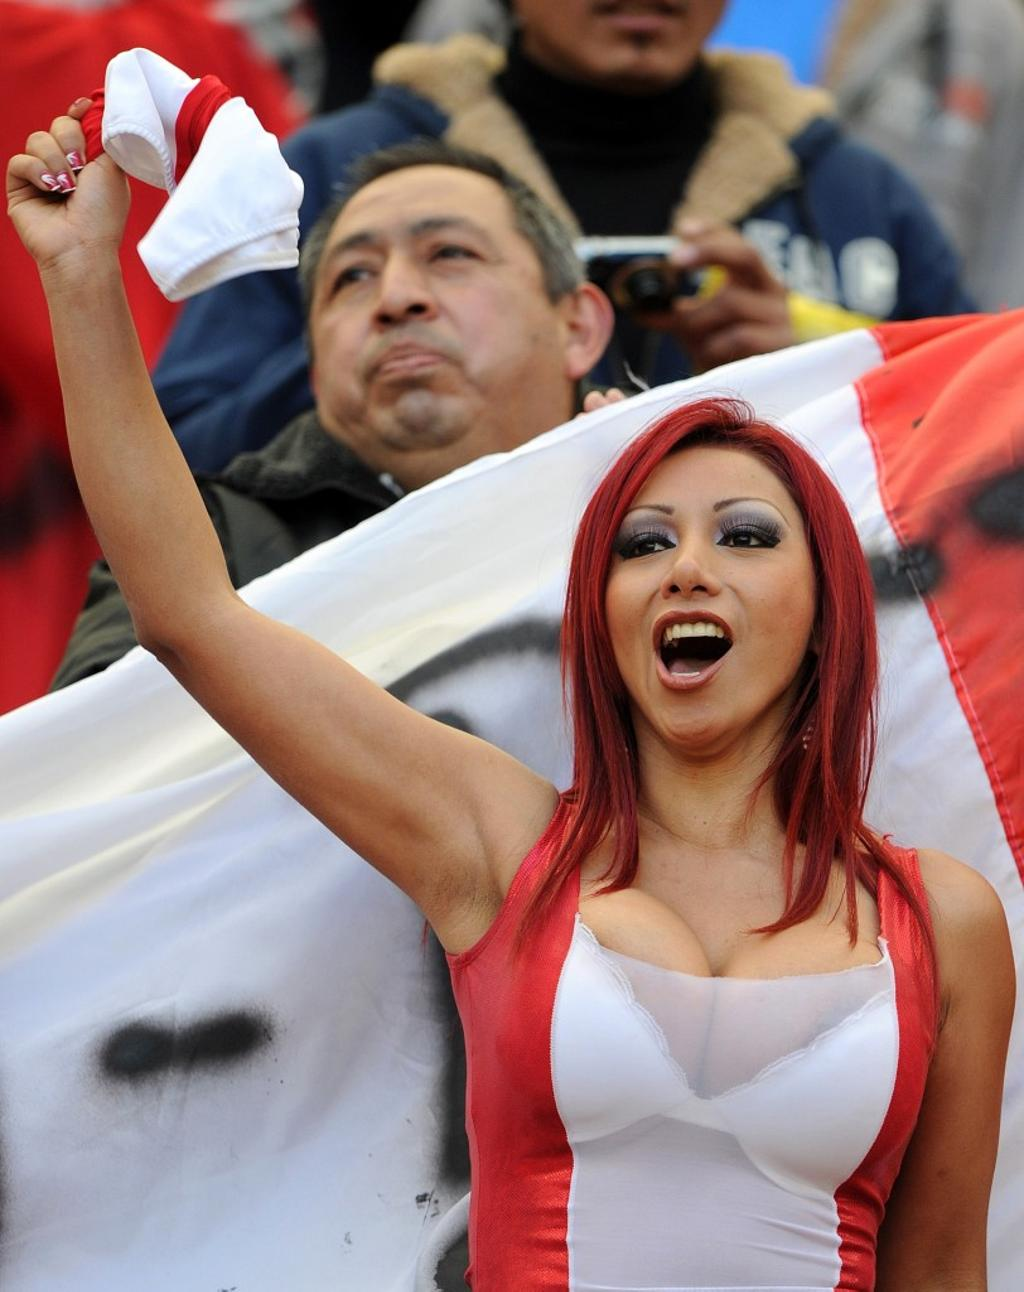face: (310, 172, 547, 444), (610, 426, 807, 749)
